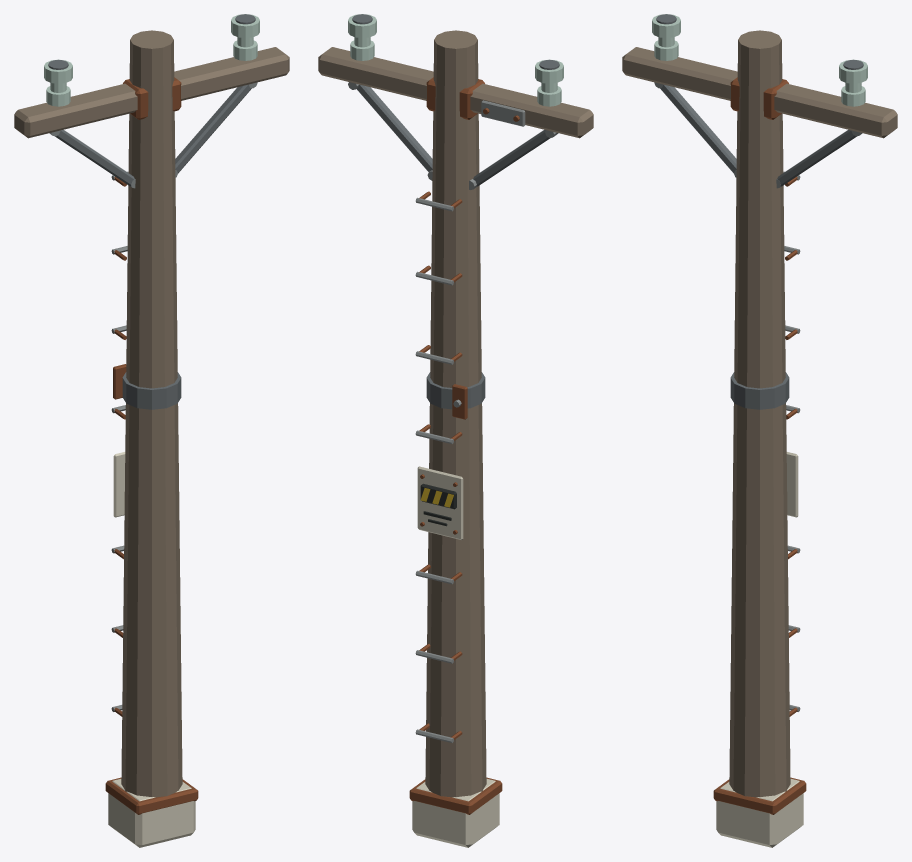
Rendered from power_pole.glb.
3 views of the same model, side by side, from view 1: azimuth 30°, elevation 25°; view 2: azimuth 150°, elevation 25°; view 3: azimuth 330°, elevation 25° (orthographic).
Parts seen in each view (by area): view 1: power_pole; view 2: power_pole; view 3: power_pole.
Boxes of the visible parts, x1=… form: power_pole: x1=14, y1=14, x2=289, y2=847; power_pole: x1=318, y1=14, x2=593, y2=847; power_pole: x1=622, y1=14, x2=897, y2=847.
Bounding box in the file's own units: 1.05 × 2.99 × 0.2665.
